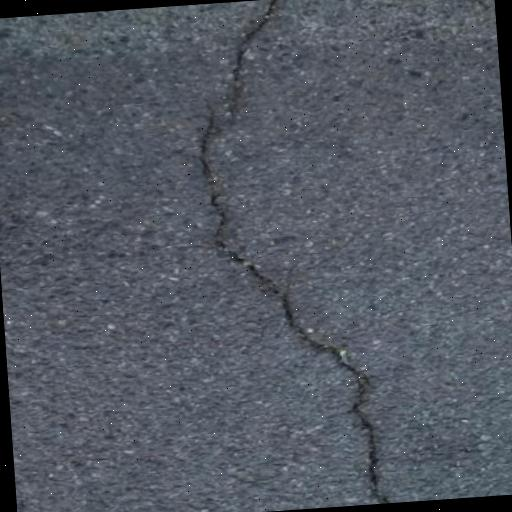spalling: (182, 1, 407, 499)
